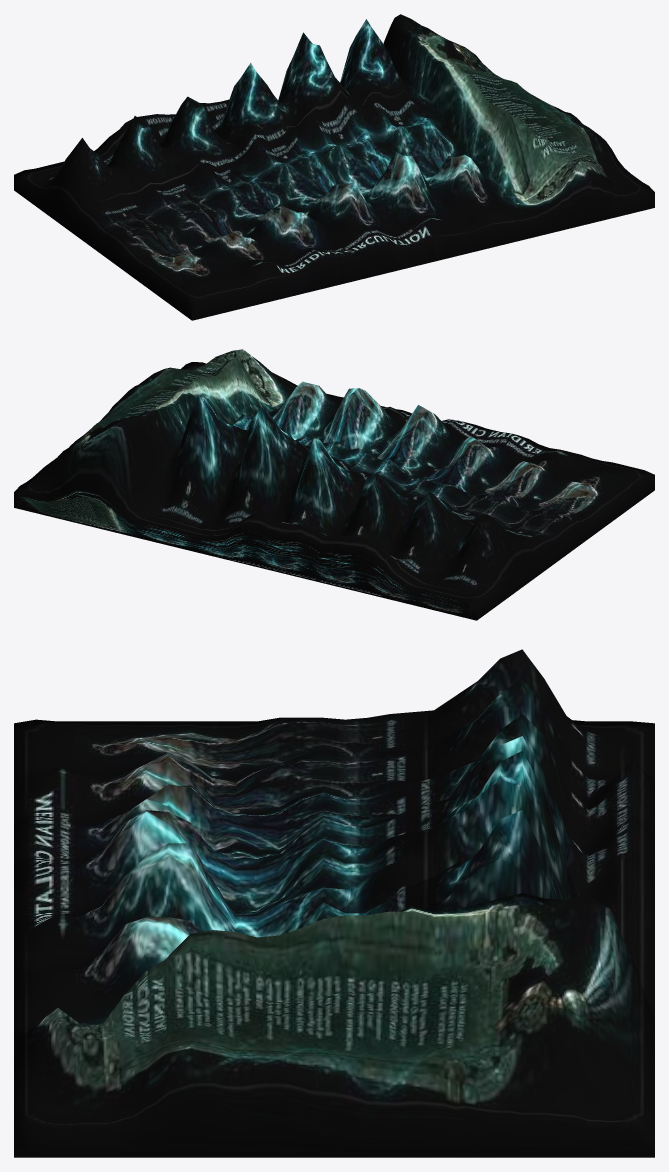
The model's file is CUL_02_Meridian_Circulation.glb.
3 renders of one model, top to bottom at view 1: azimuth 30°, elevation 25°; view 2: azimuth 150°, elevation 25°; view 3: azimuth 270°, elevation 25°, orthographic. The views are drawn at different scales.
Visible parts, largest first — view 1: CUL_02_Meridian_Circulation; view 2: CUL_02_Meridian_Circulation; view 3: CUL_02_Meridian_Circulation.
Part boxes in pixels (left/top/right/bottom): CUL_02_Meridian_Circulation: left=14, top=14, right=654, bottom=320; CUL_02_Meridian_Circulation: left=14, top=349, right=654, bottom=620; CUL_02_Meridian_Circulation: left=14, top=649, right=654, bottom=1157.
Size of the model in its own units: 2 by 0.51 by 1.33.
Materials: 1 (1 with a texture image).
